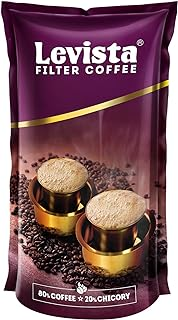Coffee: (1, 1, 178, 318)
